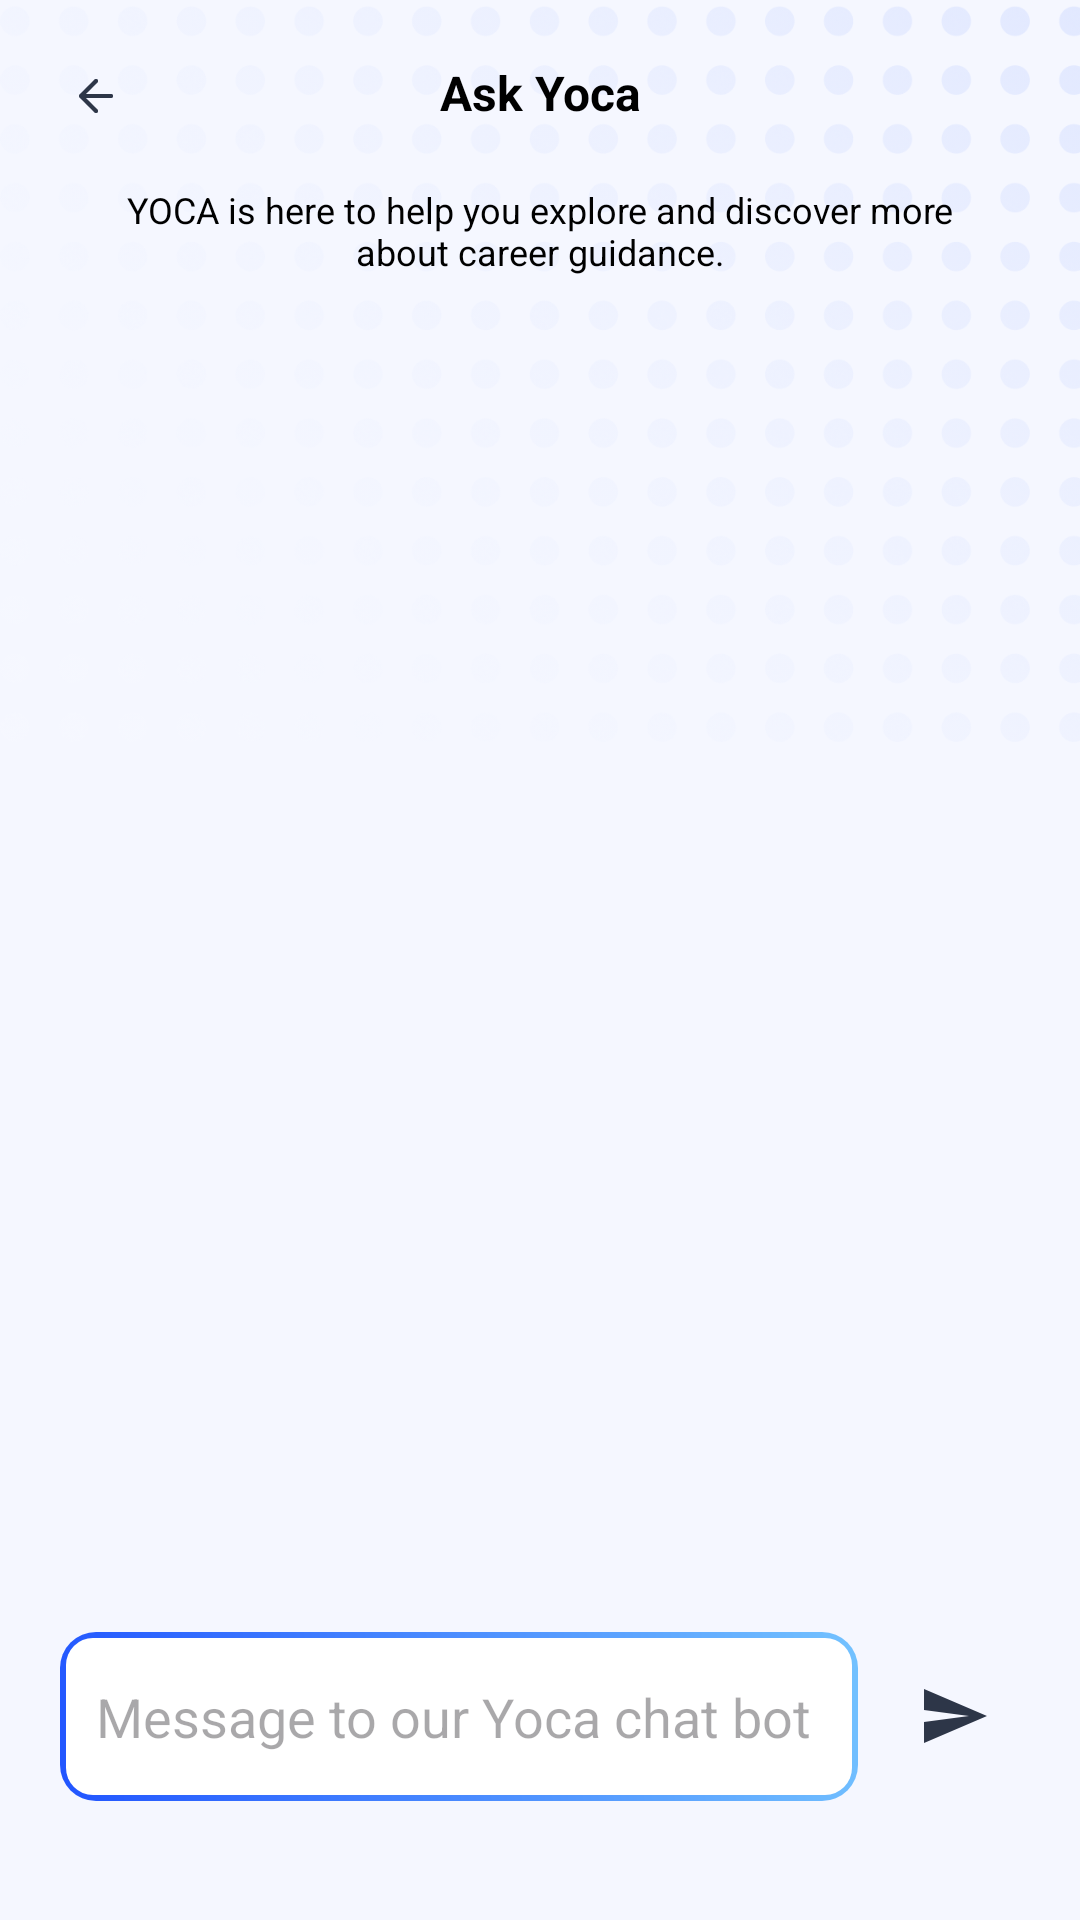

Named icons in this screenshot (1080x1920) and their bounding boxes, {"left": x1, "top": y1, "right": x2, "bottom": y2}:
back left: {"left": 79, "top": 79, "right": 113, "bottom": 113}
send: {"left": 924, "top": 1689, "right": 987, "bottom": 1743}
